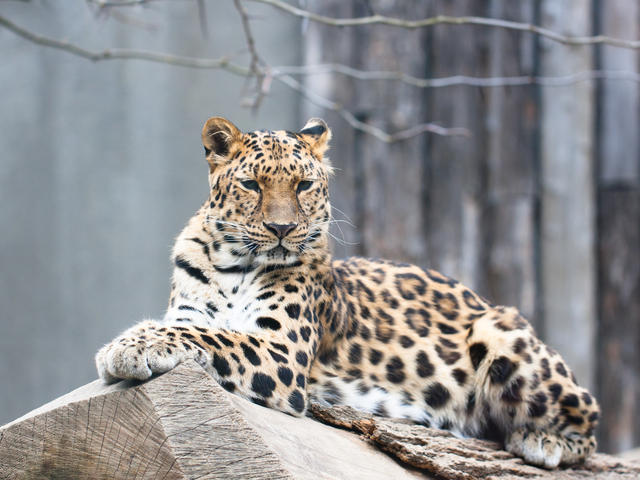amur_leopard: (170, 113, 597, 462)
